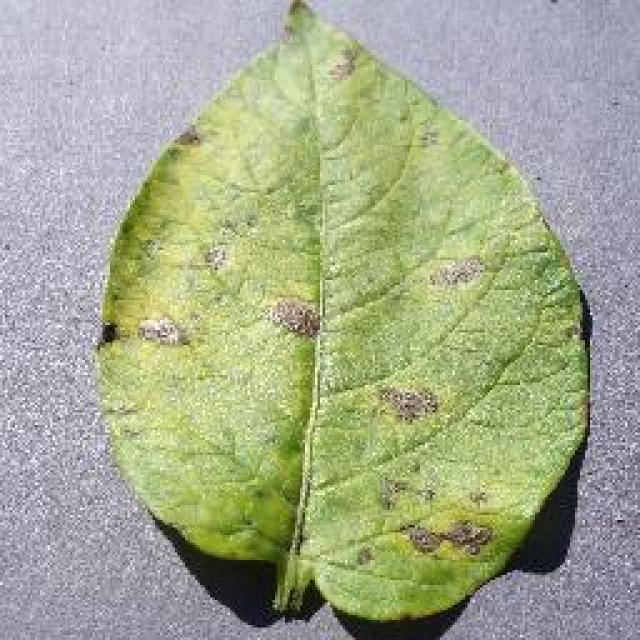early_blight: (90, 0, 595, 628)
